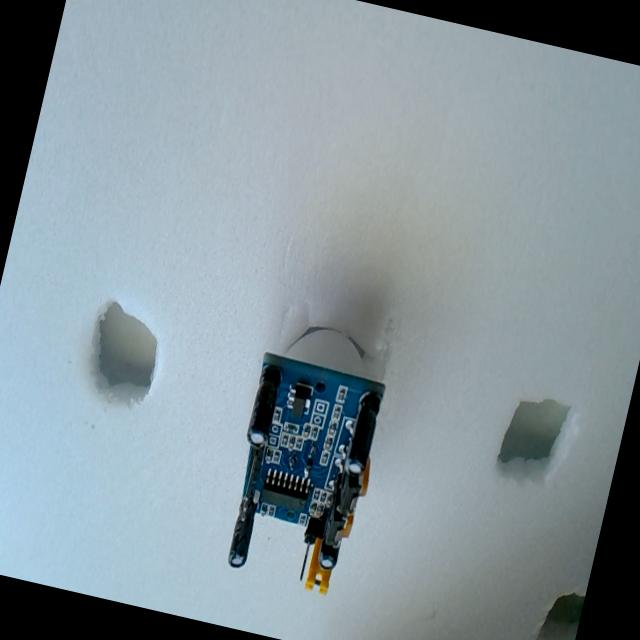Electrolytic capacitor: (244, 367, 284, 449), (342, 394, 382, 476), (224, 490, 262, 570), (315, 528, 343, 572)
IC: (258, 468, 314, 515)
pinheader: (232, 441, 268, 522)
